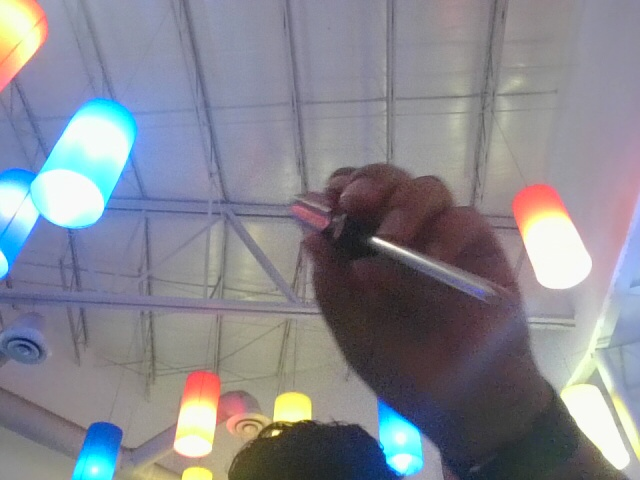destornillador: (283, 188, 519, 306)
